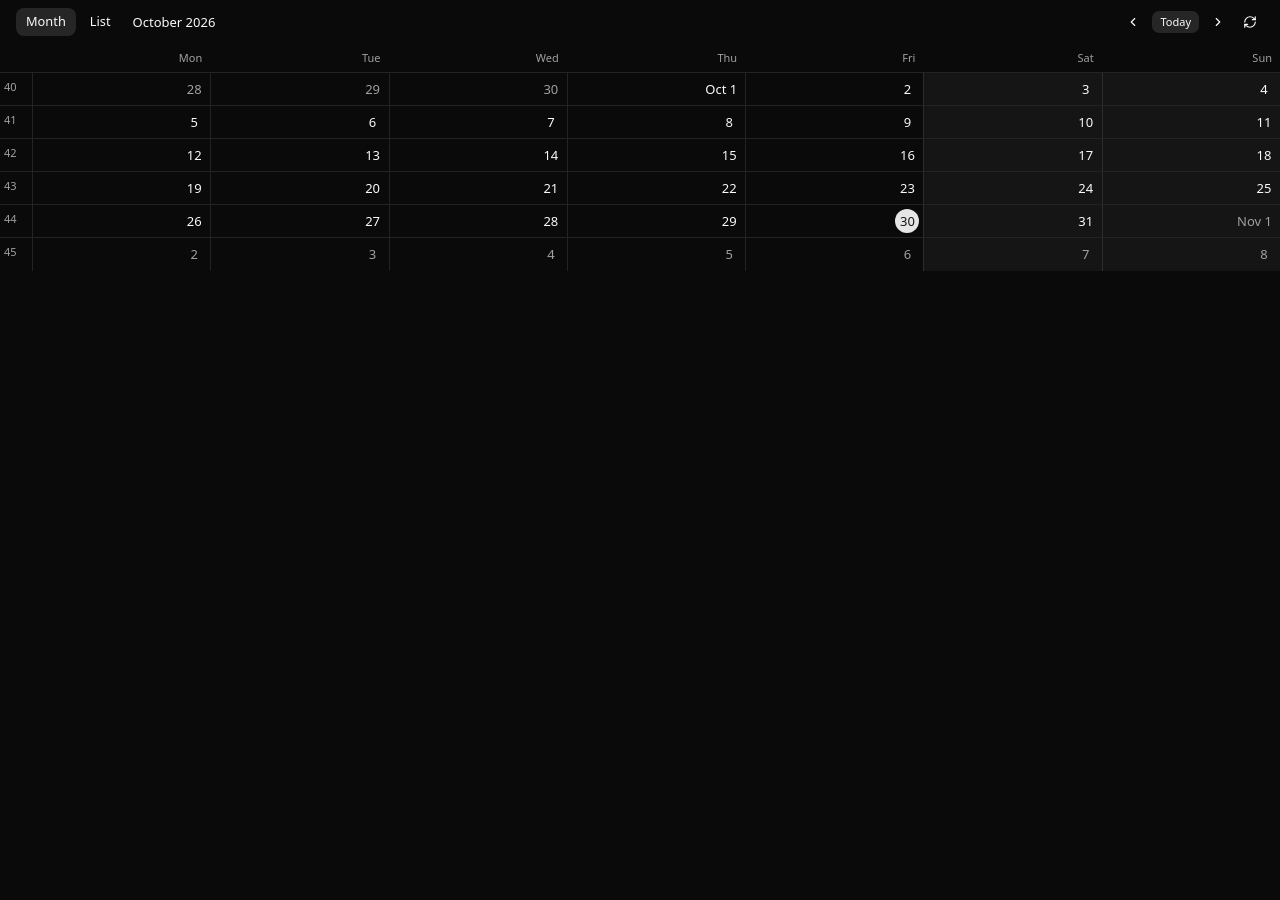
Test: making an event by pressing a day › it asks for a title, and says why Google refused
The width and height of the screenshot is (1280, 900).
Expected: the table named "Month" is shown, [0,44,1279,271]
Click the cell "30" in the row of "44" at [834, 221], box [745,205,923,237]
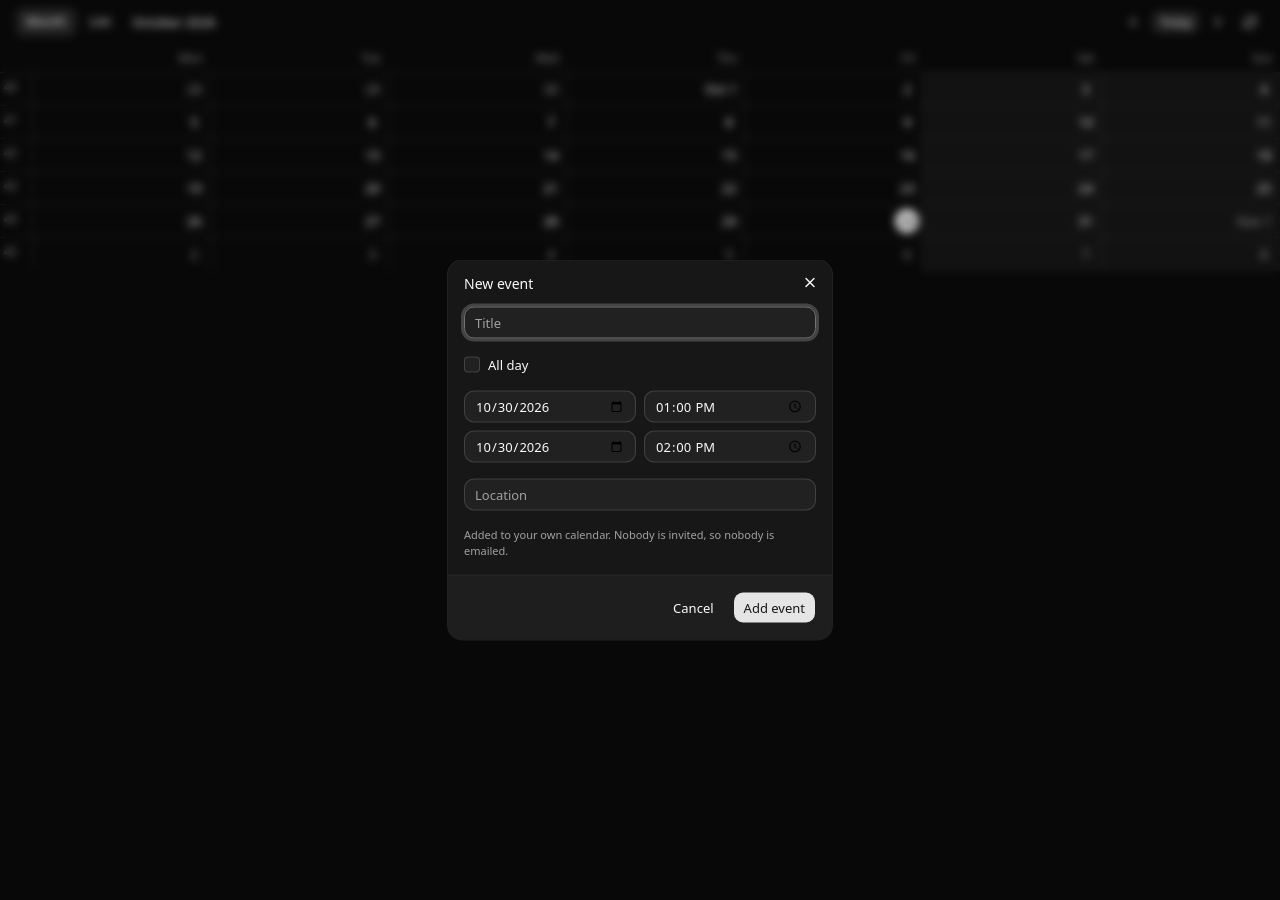
Click the button "Add event" at [774, 608], box [733,592,816,624]
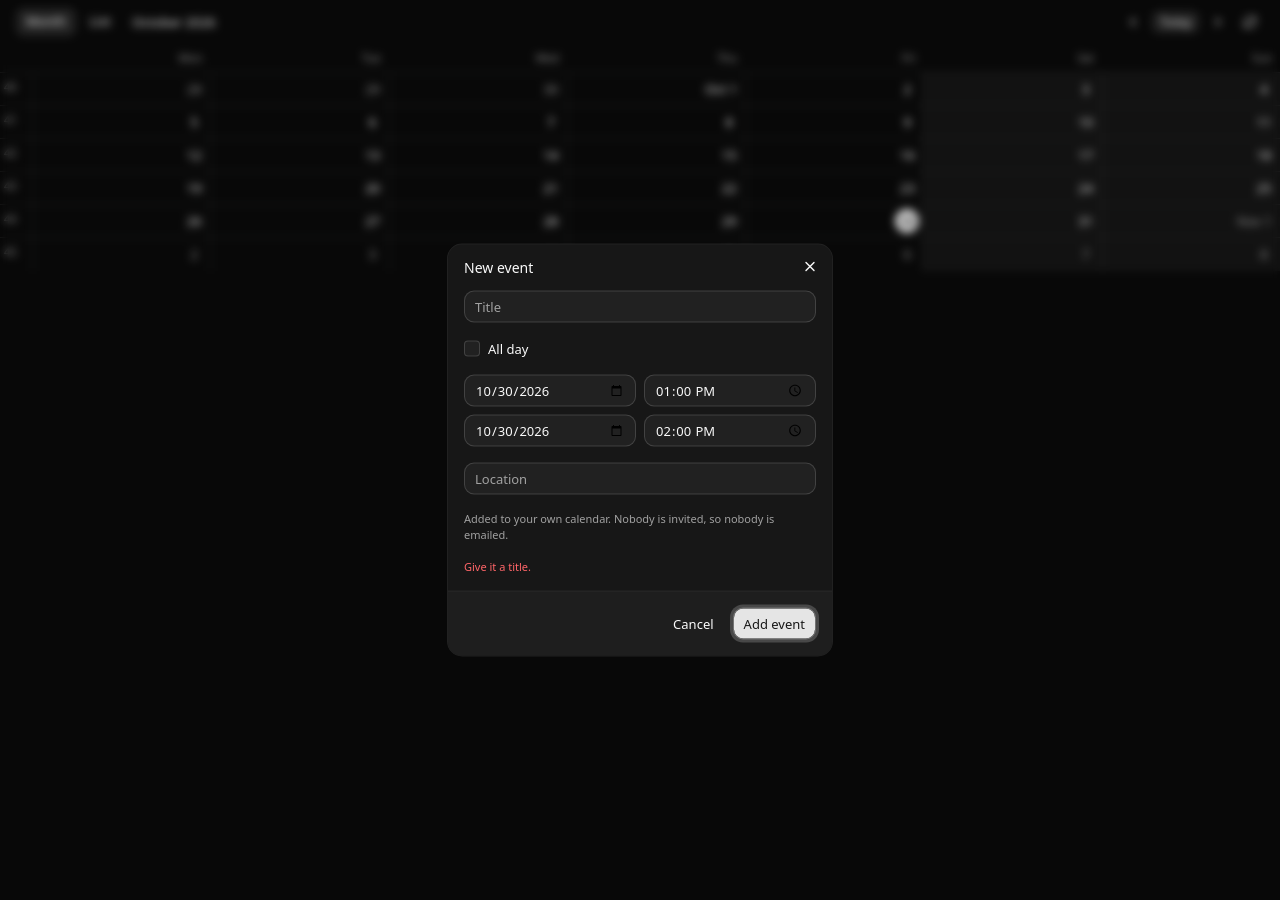
Now the message reads "Give it a title.", box [464,558,531,574]
Type "Standup" into the field labelled "Title" at [640, 306], box [464,290,816,322]
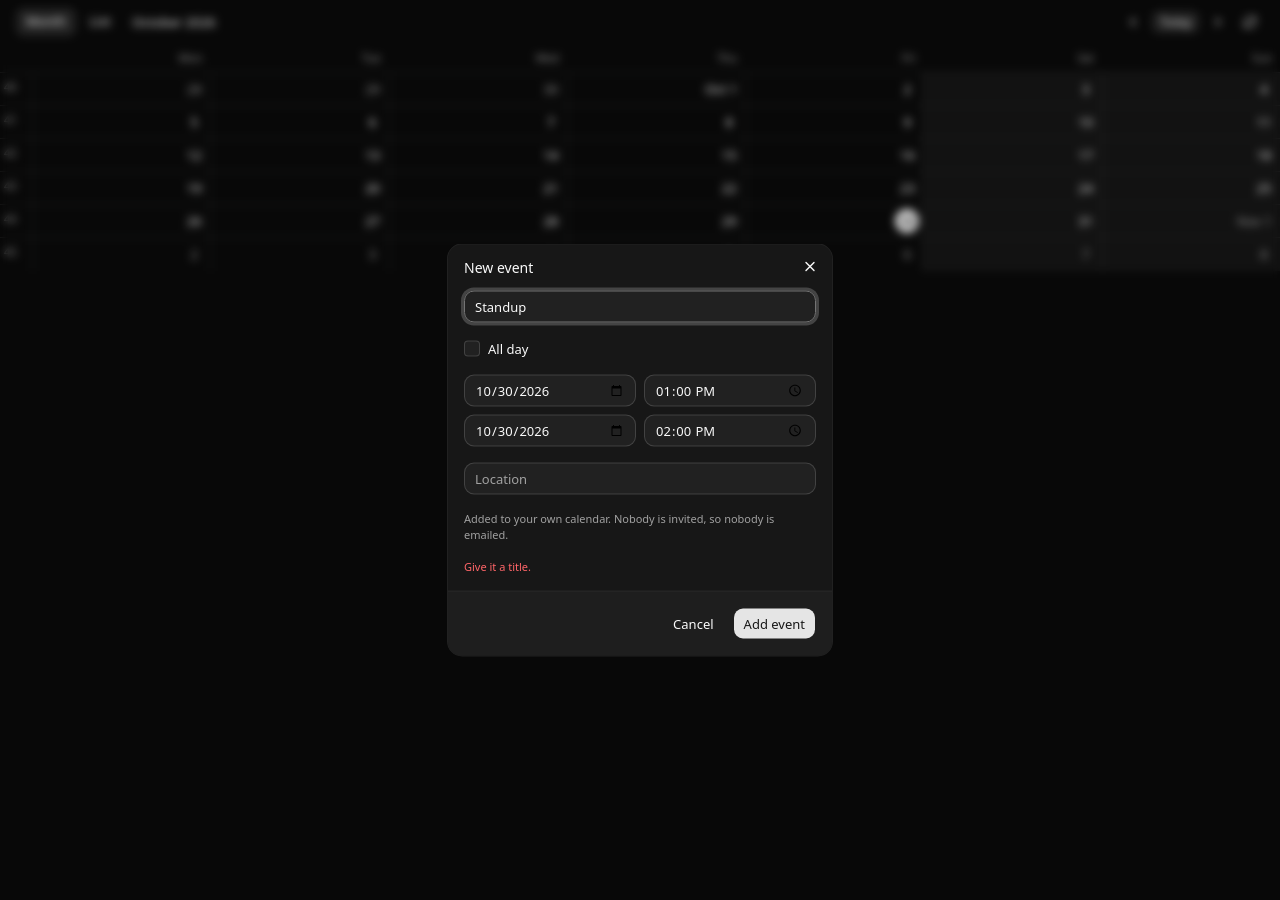
Click the button "Add event" at [774, 624], box [733,608,816,640]
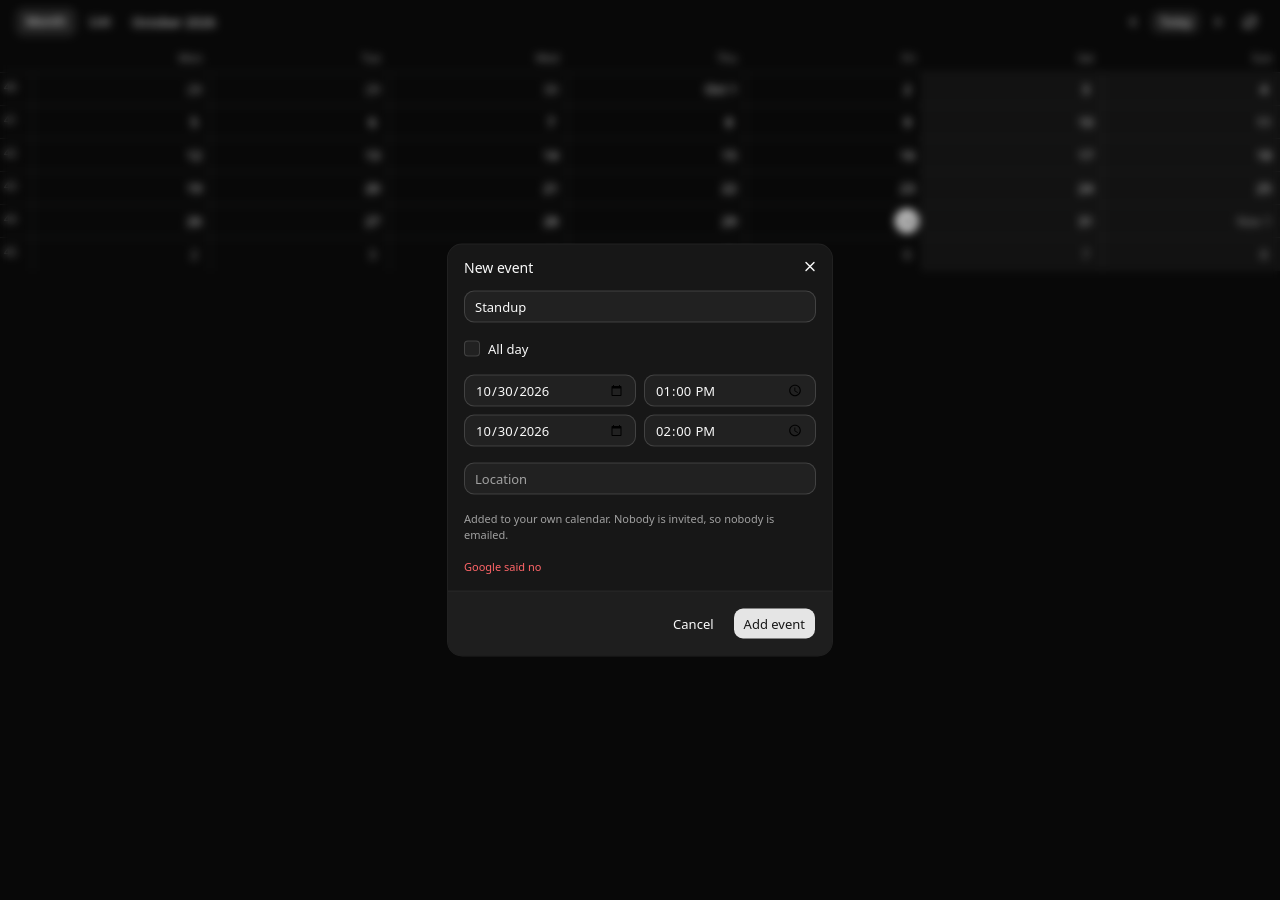
Now the text "Google said no" is shown, box [464,558,541,574]
